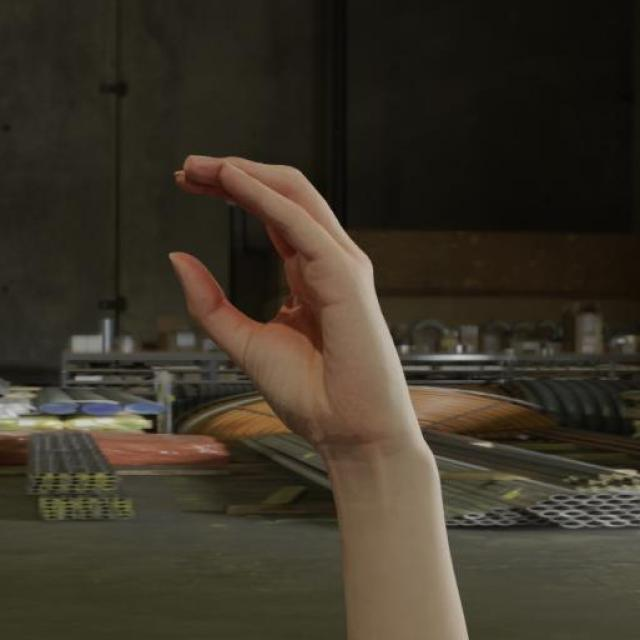C: (166, 152, 434, 452)
